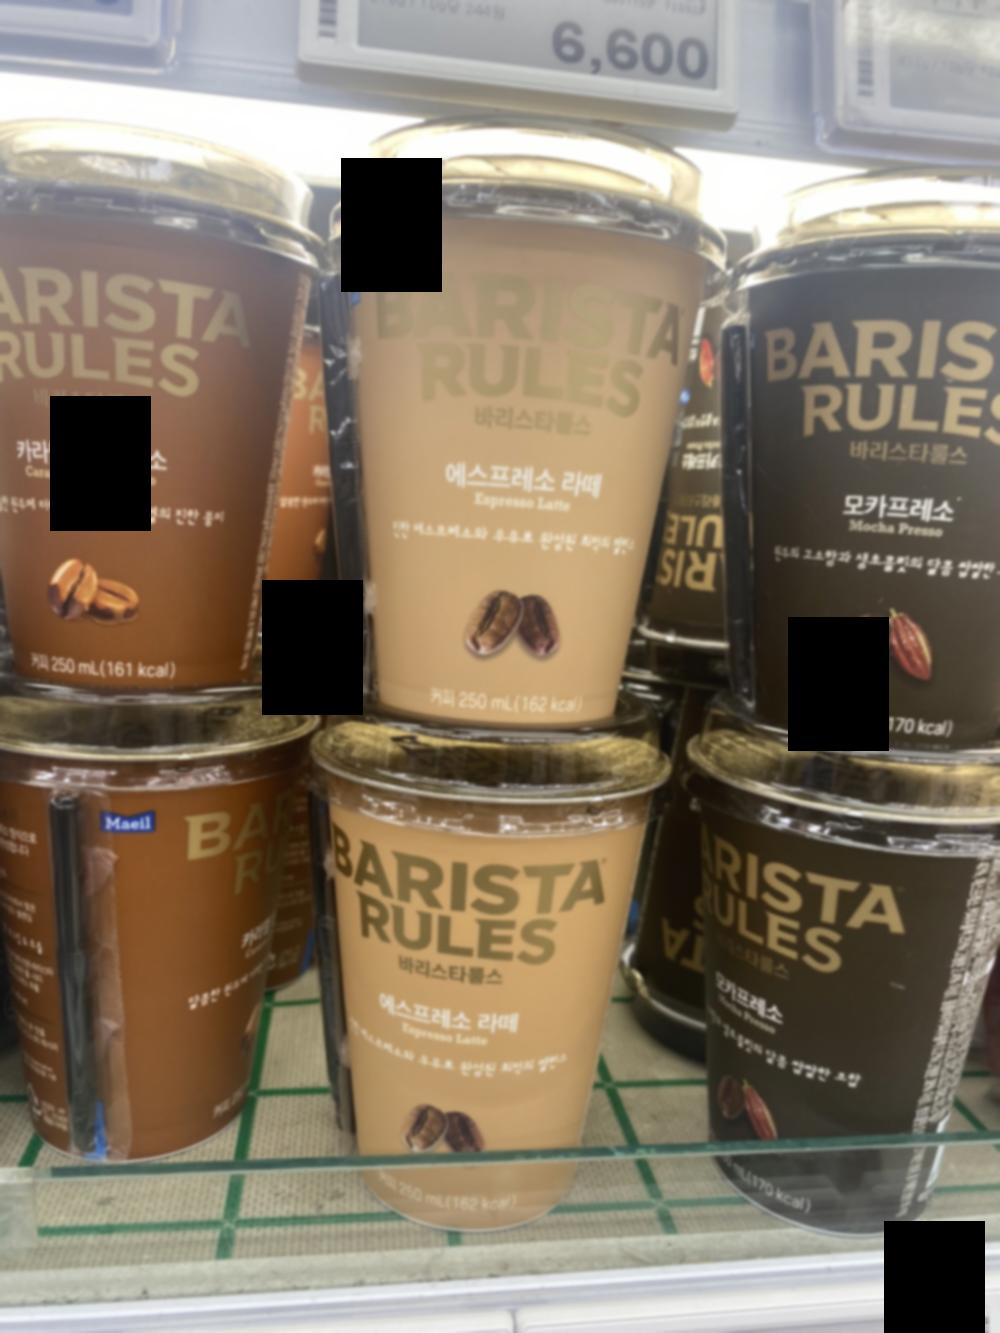baristarules_espressolatte: (315, 131, 715, 737), (311, 744, 678, 1243)
